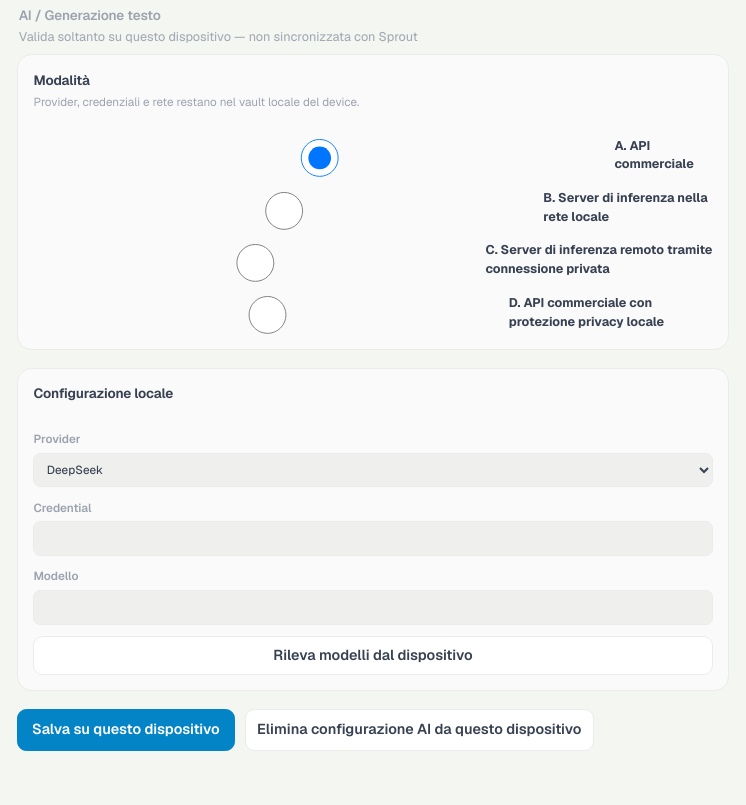
it: AI generation local profile screen › discovers models directly from the configured device provider
Step 1. Click the button "Rileva modelli dal dispositivo" → (373, 656), box [33,636,712,675]
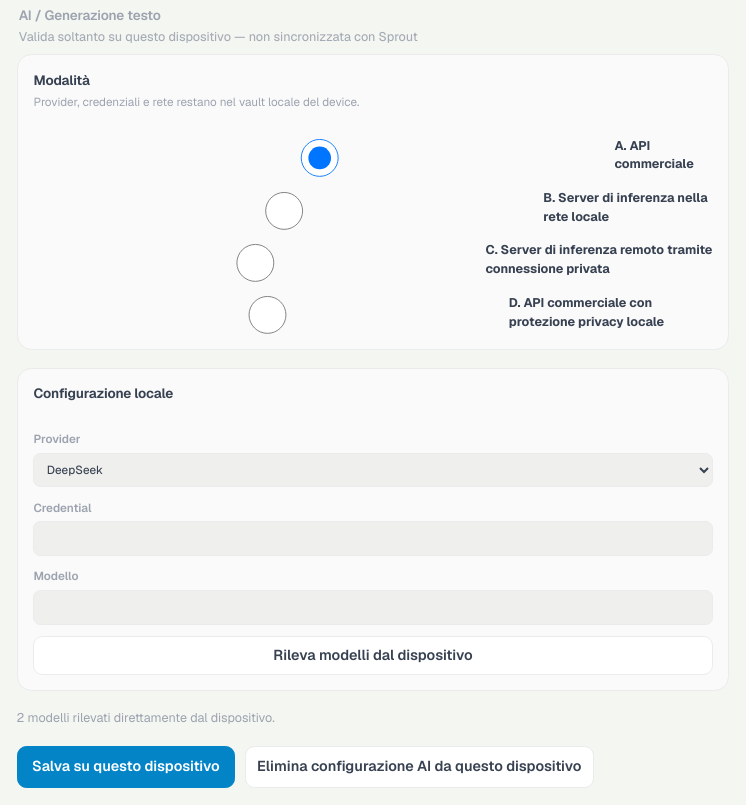
Check: the text "2 modelli rilevati direttamente dal dispositivo." is shown, box [17,709,275,726]
